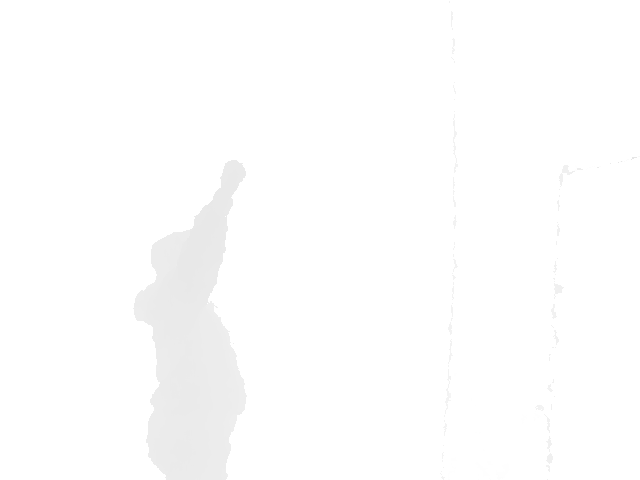hand: (219, 159, 247, 195)
head: (150, 230, 196, 286)
person: (132, 159, 249, 480)
